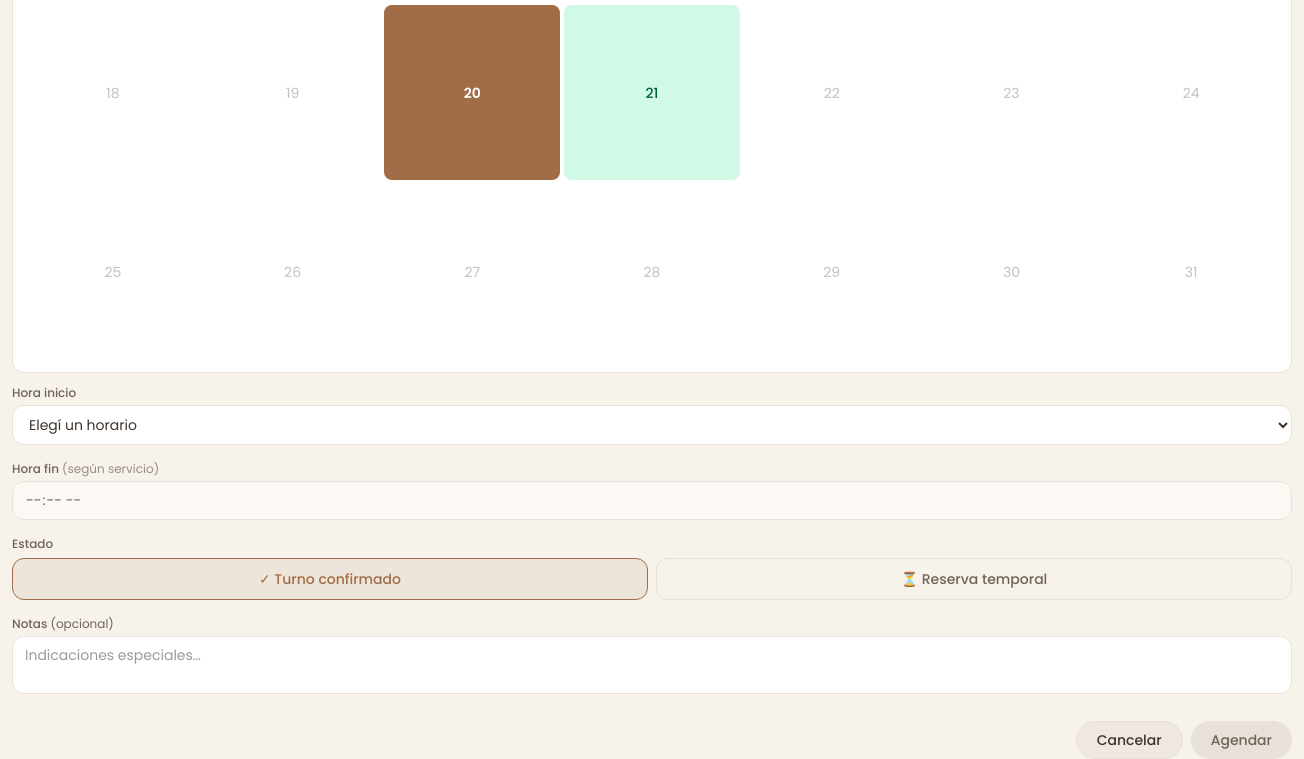
FormularioAgendar — V3c, combos que se hacen juntos › mientras se consulta el combo, el botón de confirmar queda apagado
(page scrolled)
Select "10:00" in the dropdown labelled "Hora inicio" at {"x": 652, "y": 425}, box [12,405,1292,445]
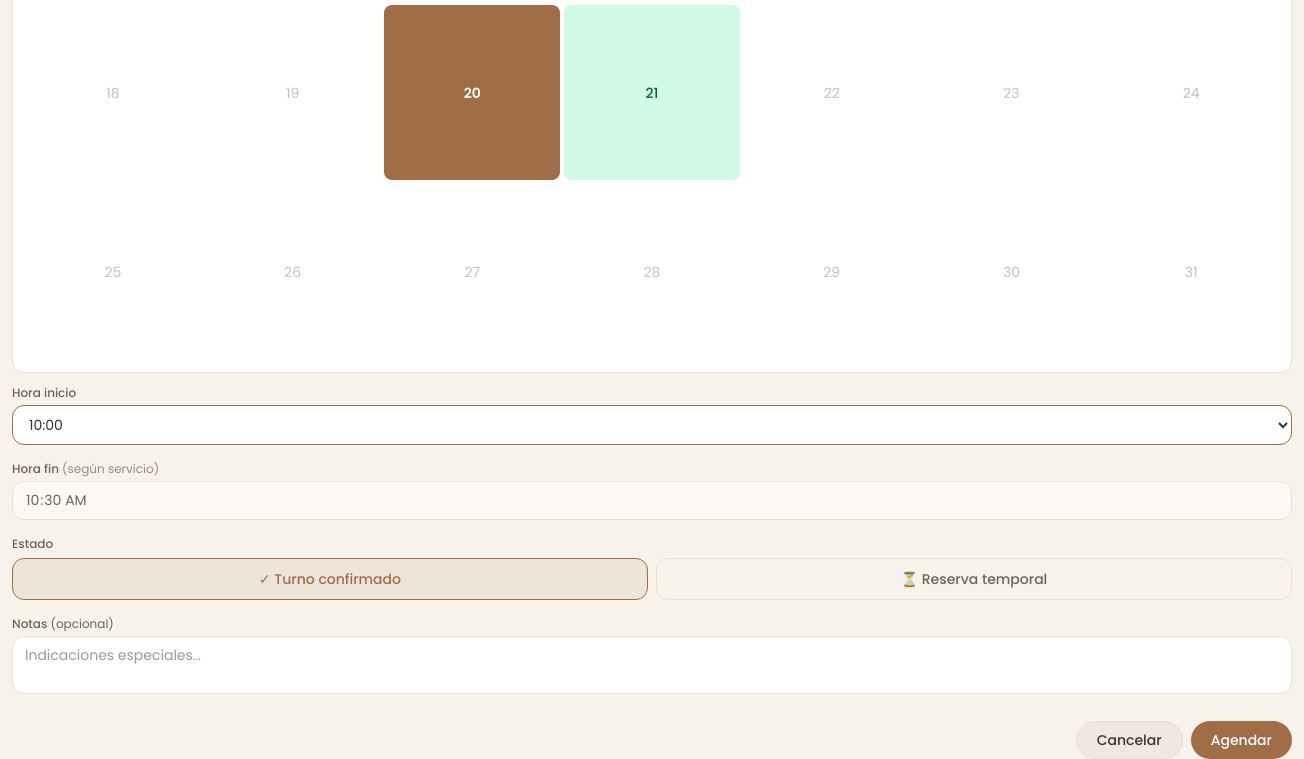
Click the button "Agendar".
click(1241, 740)  # box [1191,721,1292,758]
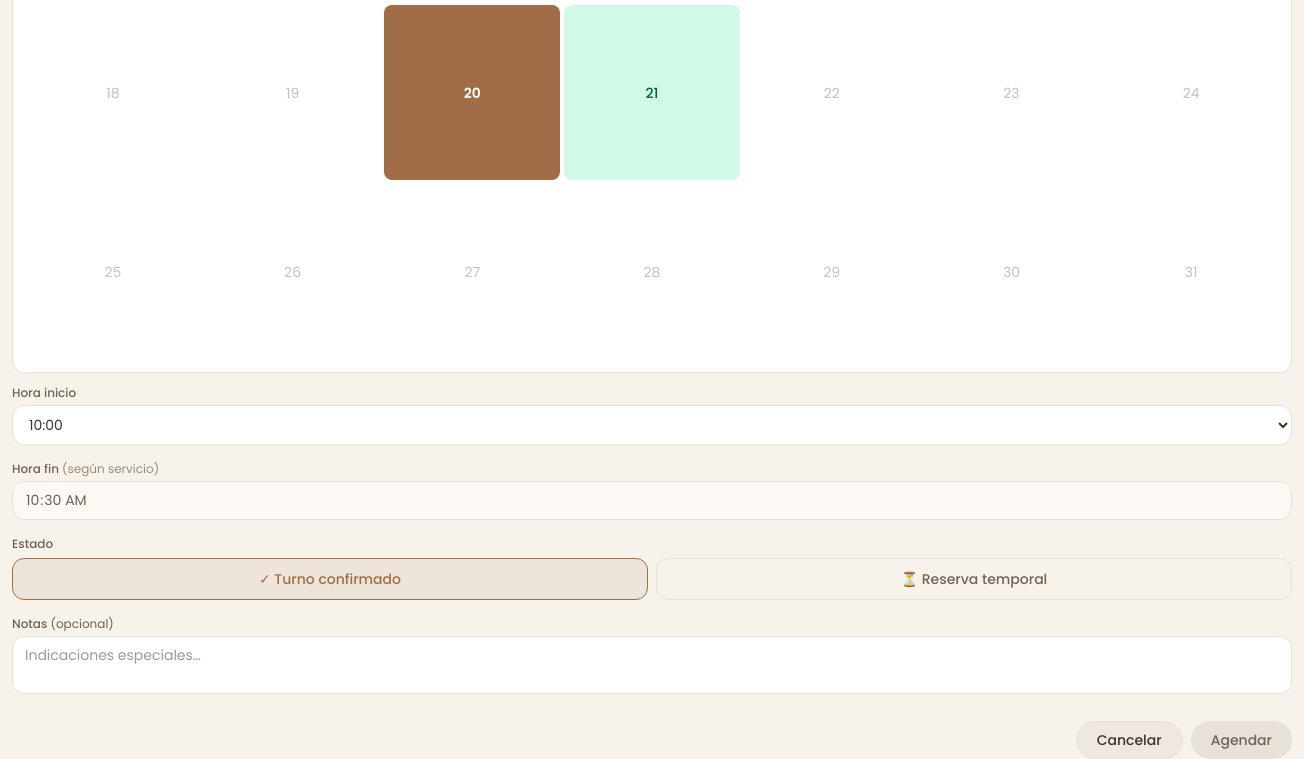
Expected: the button "Agendar" is disabled, [1191,721,1292,758]
